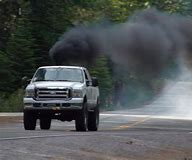smoke: (48, 8, 192, 64)
